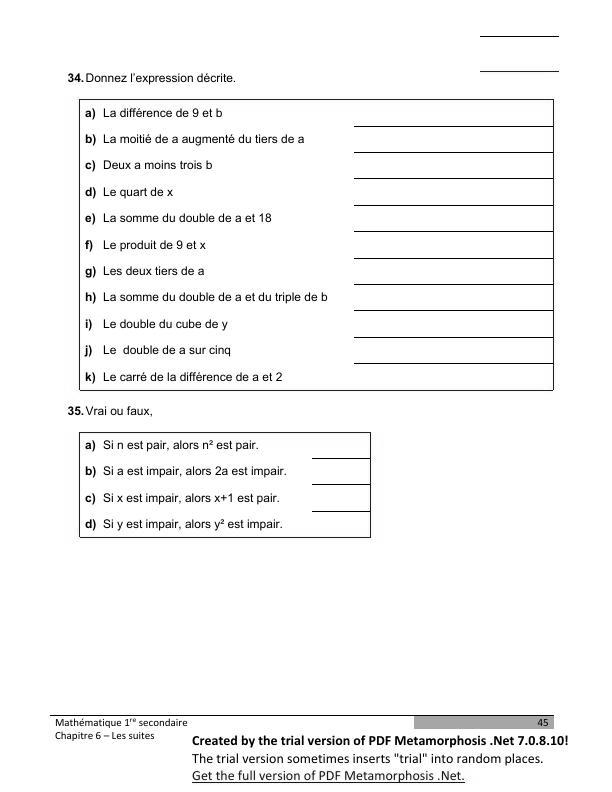input: (350, 347, 553, 368), (351, 137, 553, 157), (352, 165, 554, 185), (352, 192, 554, 212), (351, 112, 554, 131), (351, 218, 553, 235), (350, 297, 552, 313), (350, 274, 553, 289), (351, 327, 554, 341), (350, 249, 554, 262), (478, 16, 563, 39), (478, 58, 562, 76), (308, 440, 371, 462), (308, 472, 371, 489), (309, 499, 371, 516)
text: (82, 513, 286, 534), (82, 129, 305, 148), (83, 489, 285, 509), (83, 289, 332, 305), (84, 462, 290, 480), (83, 367, 288, 385), (84, 209, 275, 228), (82, 103, 230, 125), (82, 438, 263, 455), (67, 69, 237, 86), (81, 343, 236, 361), (85, 156, 216, 176), (83, 317, 233, 333), (84, 263, 212, 281), (83, 236, 211, 252), (66, 402, 158, 421), (84, 184, 178, 201)
